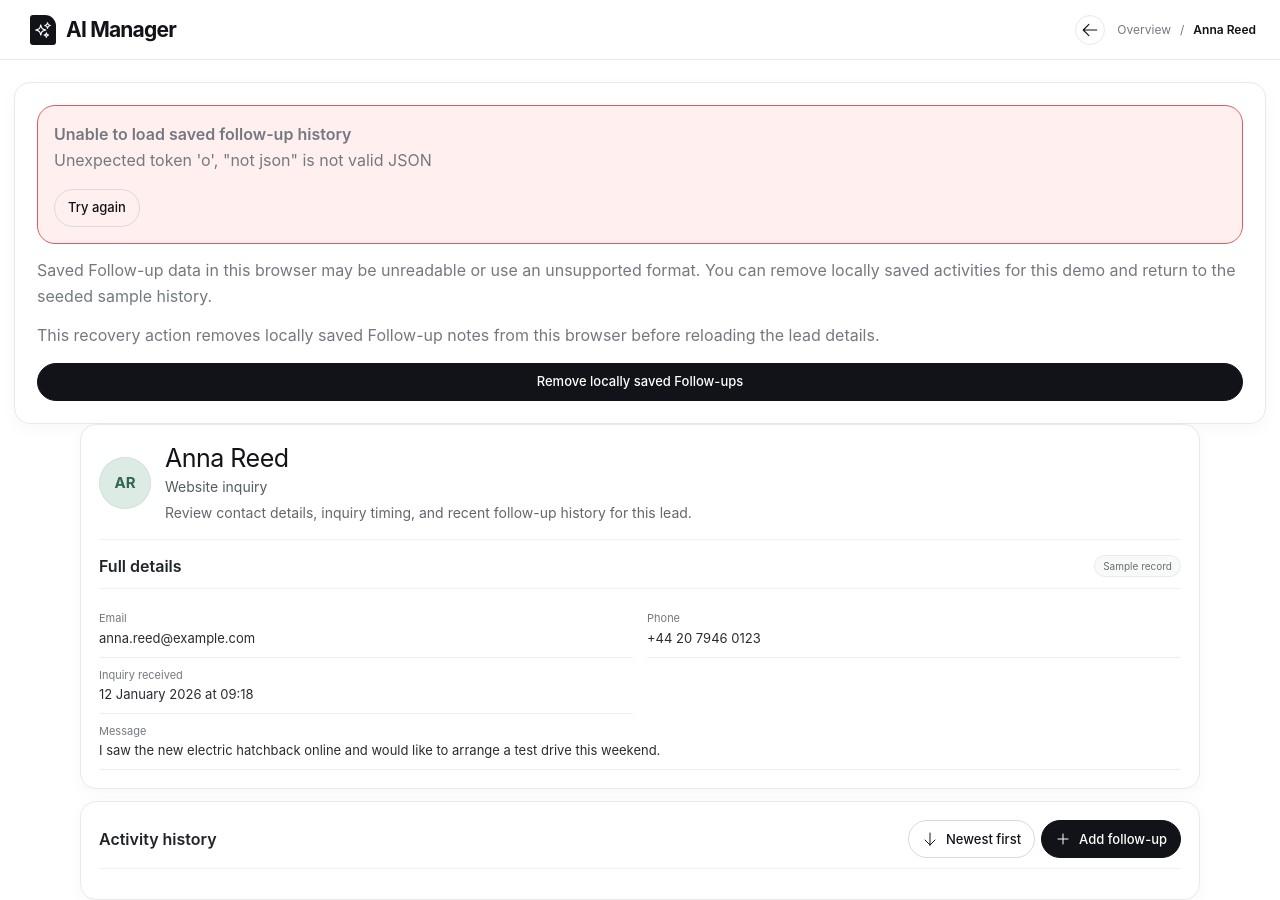
Test: completed Follow-up recording › shows retryable feedback when locally saved Follow-ups cannot be removed
Click the button "Remove locally saved Follow-ups" at (640, 382), box [37,363,1243,401]
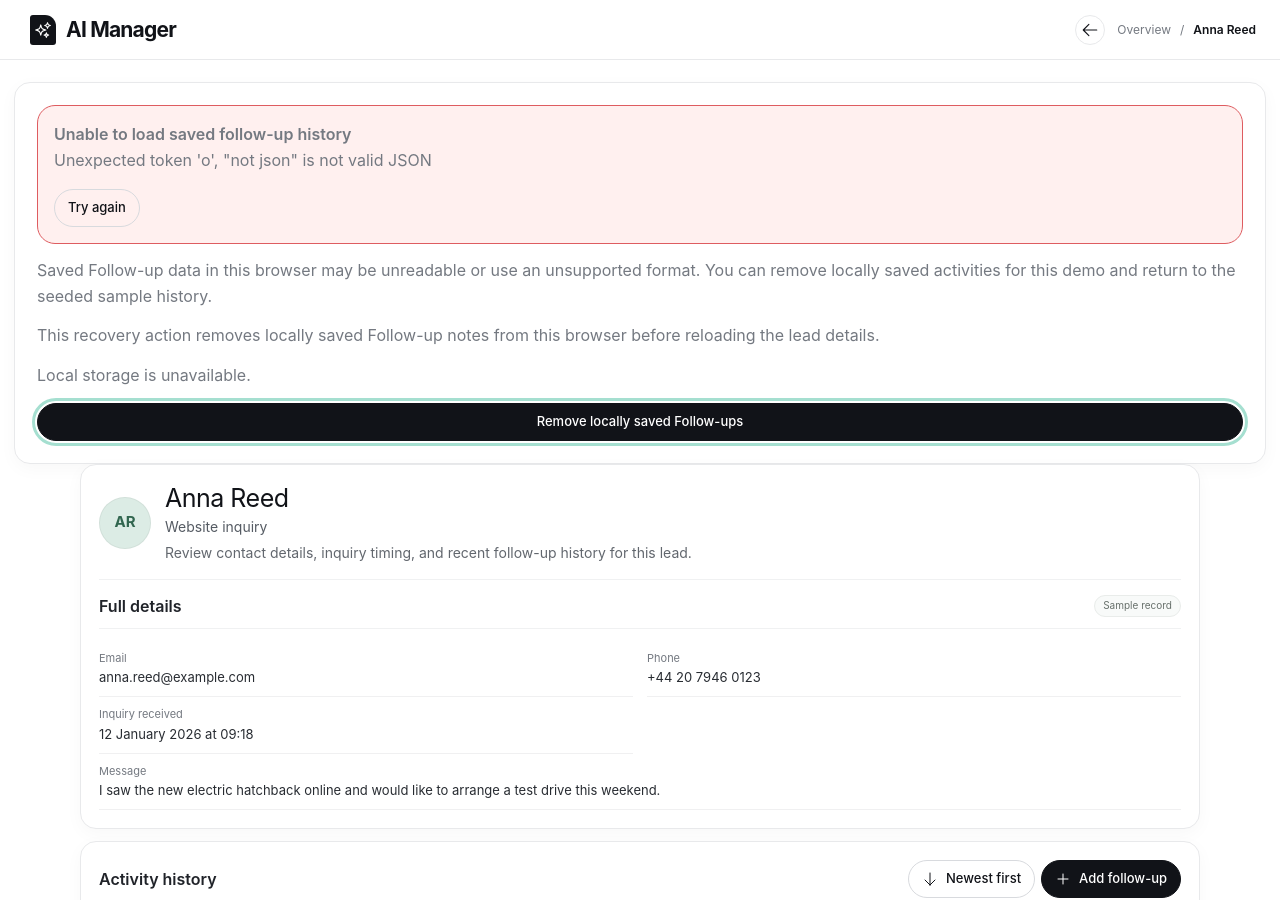
Expected: the text "Unable to load saved follow-up history" is shown, [54,124,351,144]
Now the text "Local storage is unavailable." is shown, box [37,365,251,385]
